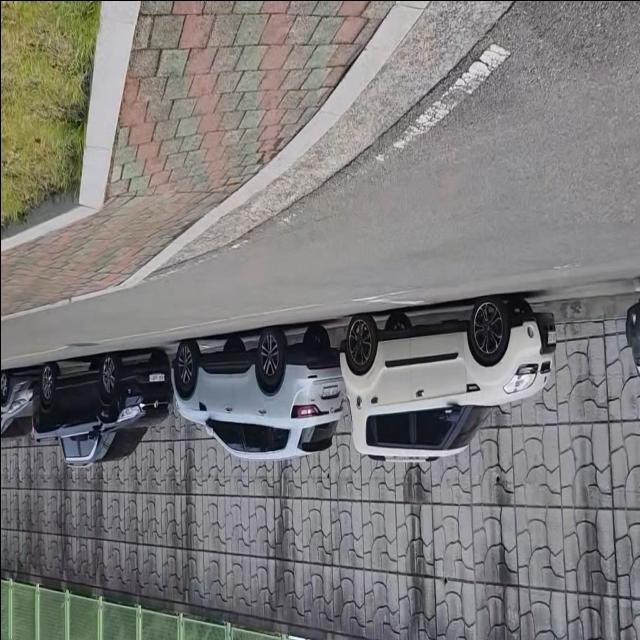obstacle: (333, 284, 564, 466), (612, 278, 640, 392)
road: (0, 0, 640, 361)
sidewalk: (0, 0, 427, 324)
